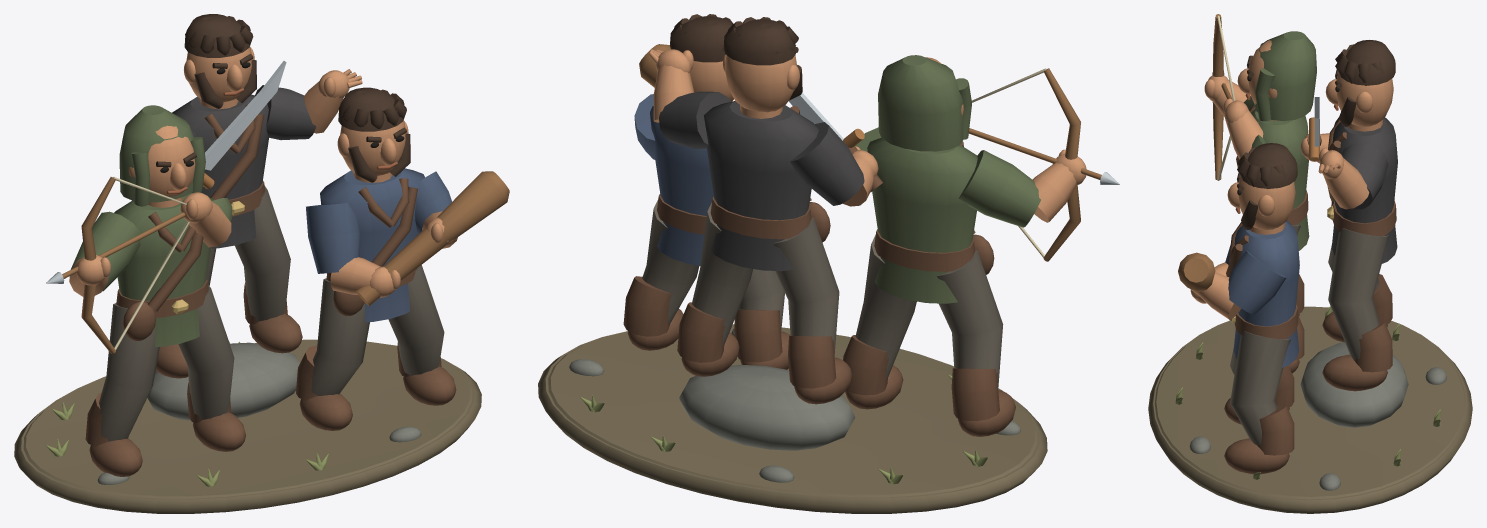
Rendered from robber-band.fbx.
3 renders of one model, left to right at view 1: azimuth 30°, elevation 25°; view 2: azimuth 150°, elevation 25°; view 3: azimuth 270°, elevation 25°, orthographic. The views are drawn at different scales.
Parts seen in each view (by area): view 1: robber-band.003; view 2: robber-band.003; view 3: robber-band.003.
Part boxes in pixels (x1=…): robber-band.003: x1=14, y1=14, x2=509, y2=513; robber-band.003: x1=538, y1=14, x2=1119, y2=513; robber-band.003: x1=1148, y1=14, x2=1472, y2=513.
Bounding box in the file's own units: 0.0254 × 0.0204 × 0.0162.
Materials: 1 (1 with a texture image).
